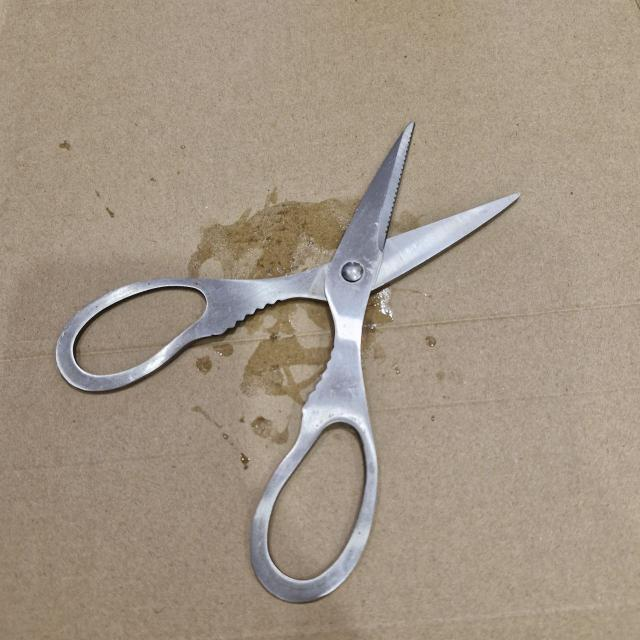metal: (53, 120, 523, 600)
